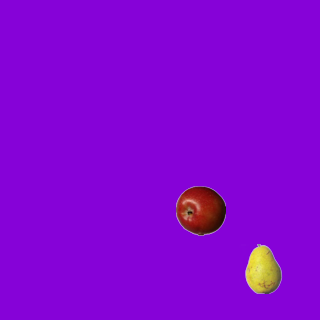Apple Braeburn: (175, 185, 225, 235)
Pear Monster: (238, 243, 288, 293)
